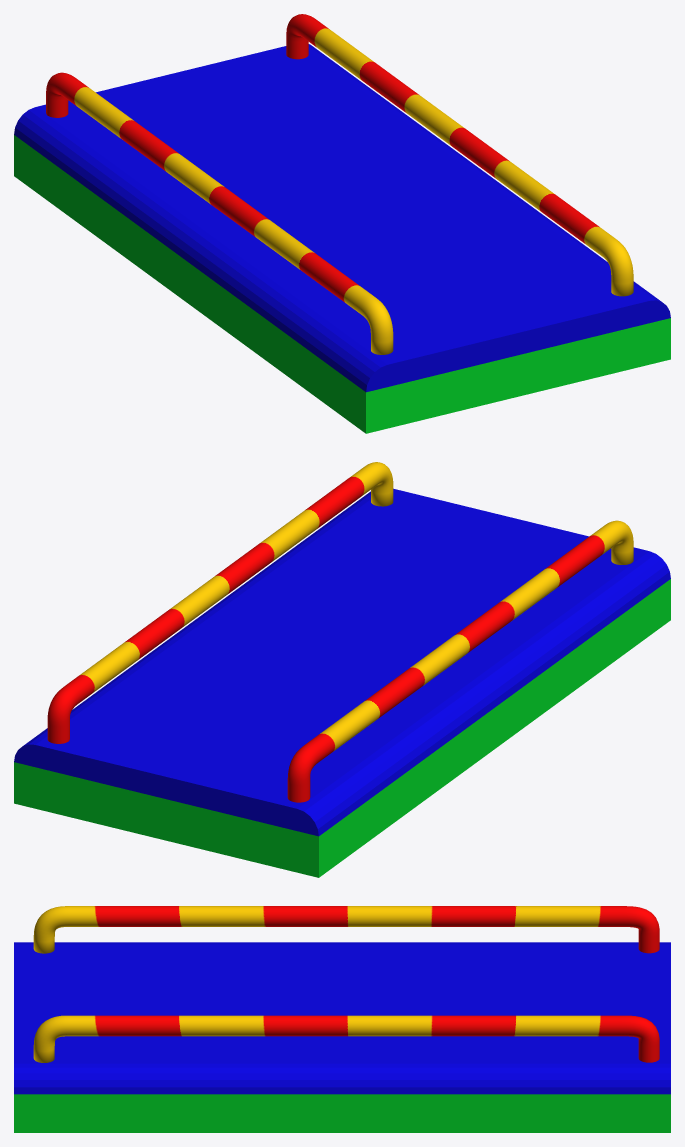
File: 1 with texture1.fbx
3 renders of one model, top to bottom at view 1: azimuth 30°, elevation 25°; view 2: azimuth 150°, elevation 25°; view 3: azimuth 270°, elevation 25°, orthographic. The views are drawn at different scales.
Visible parts, largest first — view 1: Cube.001, pCylinder13, pCylinder13.001; view 2: Cube.001, pCylinder13.001, pCylinder13; view 3: Cube.001, pCylinder13, pCylinder13.001.
Boxes of the visible parts, box(x1,y1,x2,y2) form: Cube.001: box(14, 44, 670, 433); pCylinder13: box(286, 14, 633, 296); pCylinder13.001: box(46, 72, 393, 354); Cube.001: box(14, 488, 670, 877); pCylinder13.001: box(287, 520, 633, 802); pCylinder13: box(47, 462, 393, 743); Cube.001: box(14, 942, 670, 1132); pCylinder13: box(33, 1015, 659, 1062); pCylinder13.001: box(33, 906, 659, 953).
Bounding box in the file's own units: 500 × 170 × 1000.
